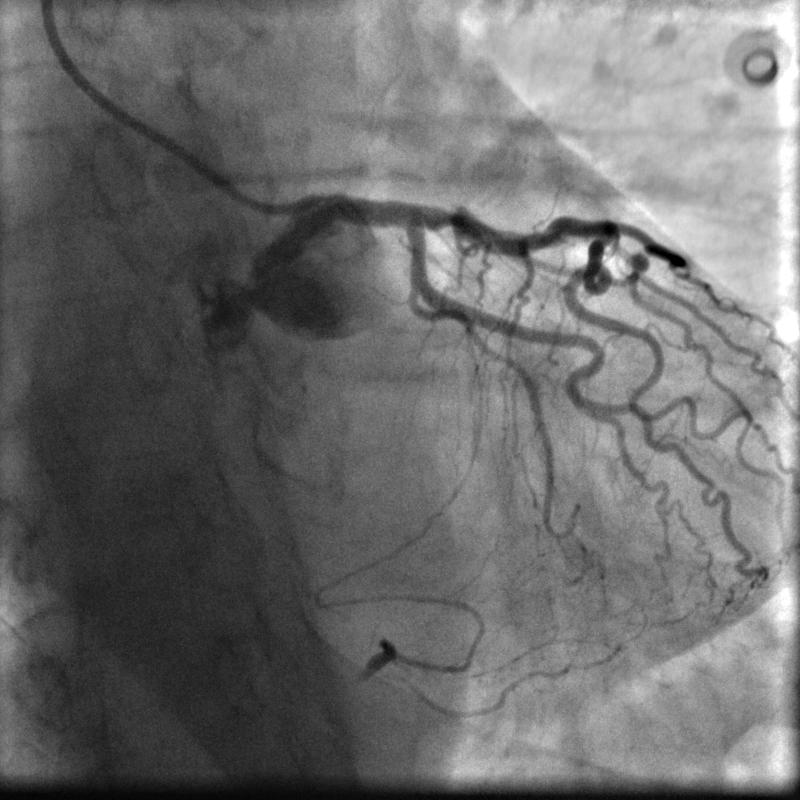Stenosis: (431, 202, 465, 235)
